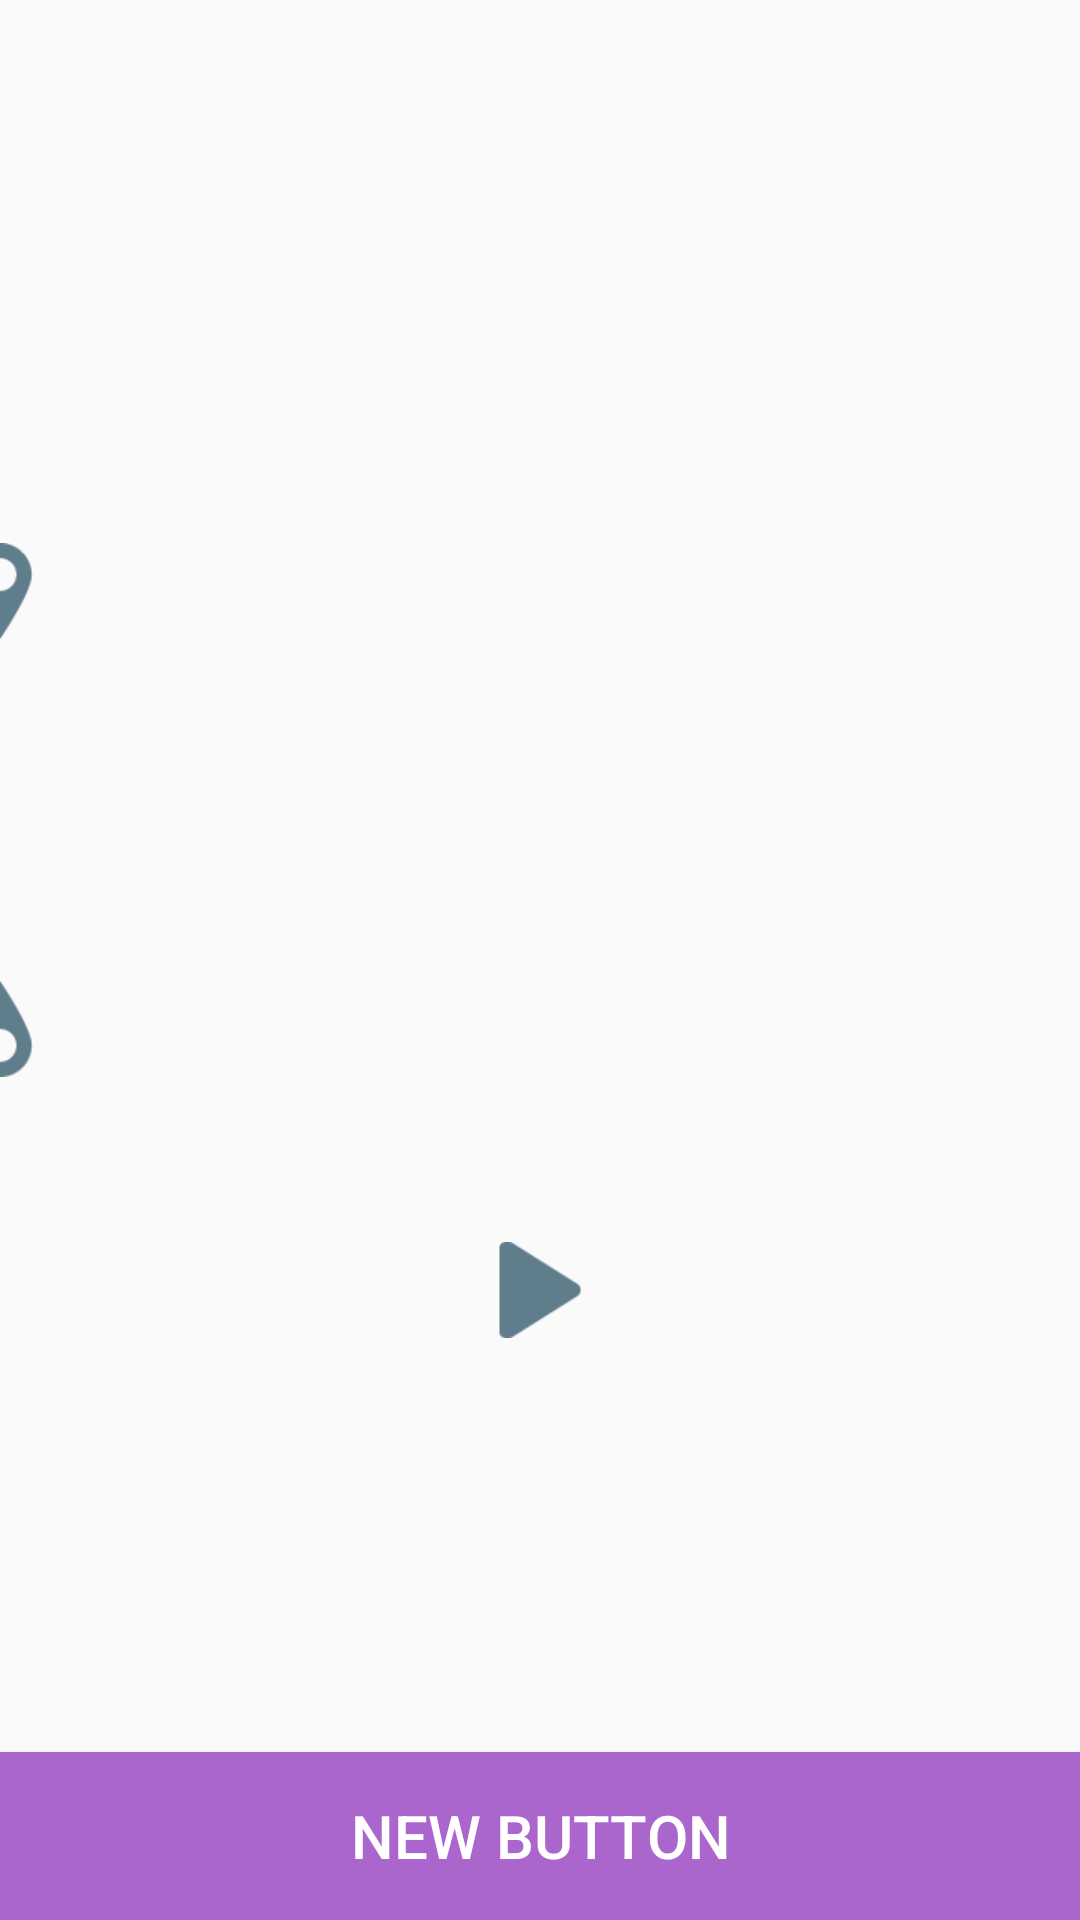

Where icons sit on this 1080w x 1920h app screen, as [x1=x1, y1=y1, x2=x2, y2=y2]:
play: [x1=499, y1=1242, x2=581, y2=1338]
